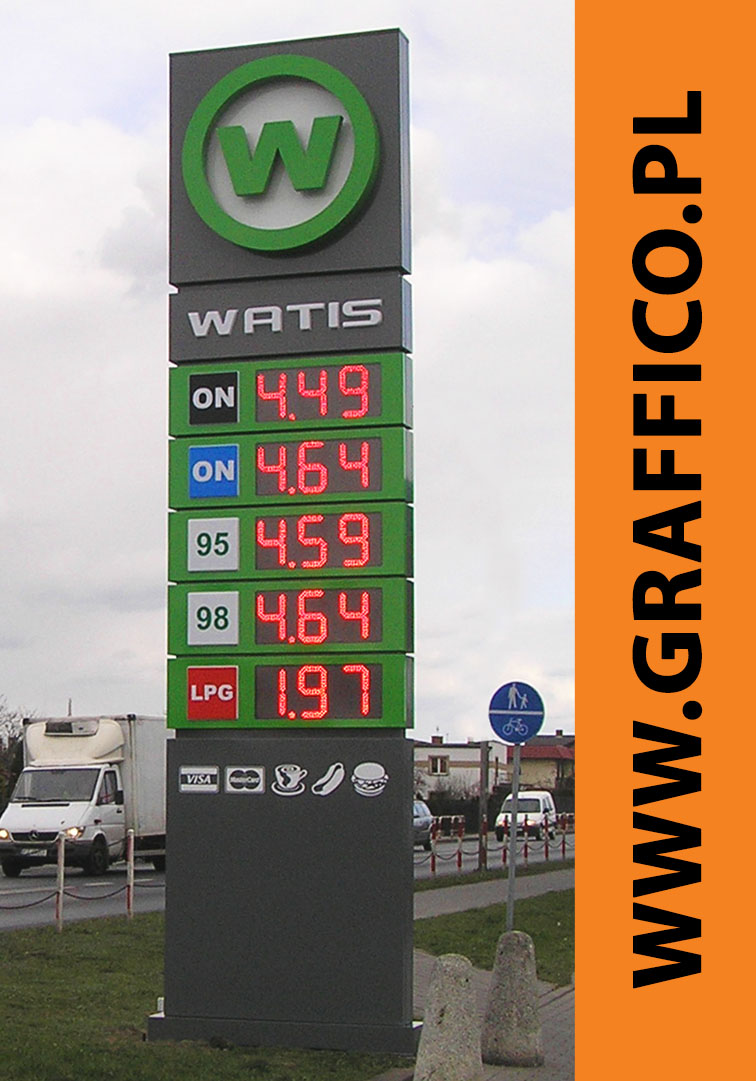LPG: (182, 661, 241, 721)
ON: (183, 368, 243, 430), (184, 442, 242, 502)
PB95: (183, 513, 241, 572)
PB98: (187, 584, 241, 644)
